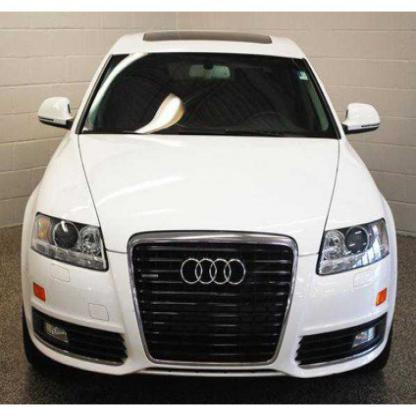Vehicle: (22, 29, 399, 392)
